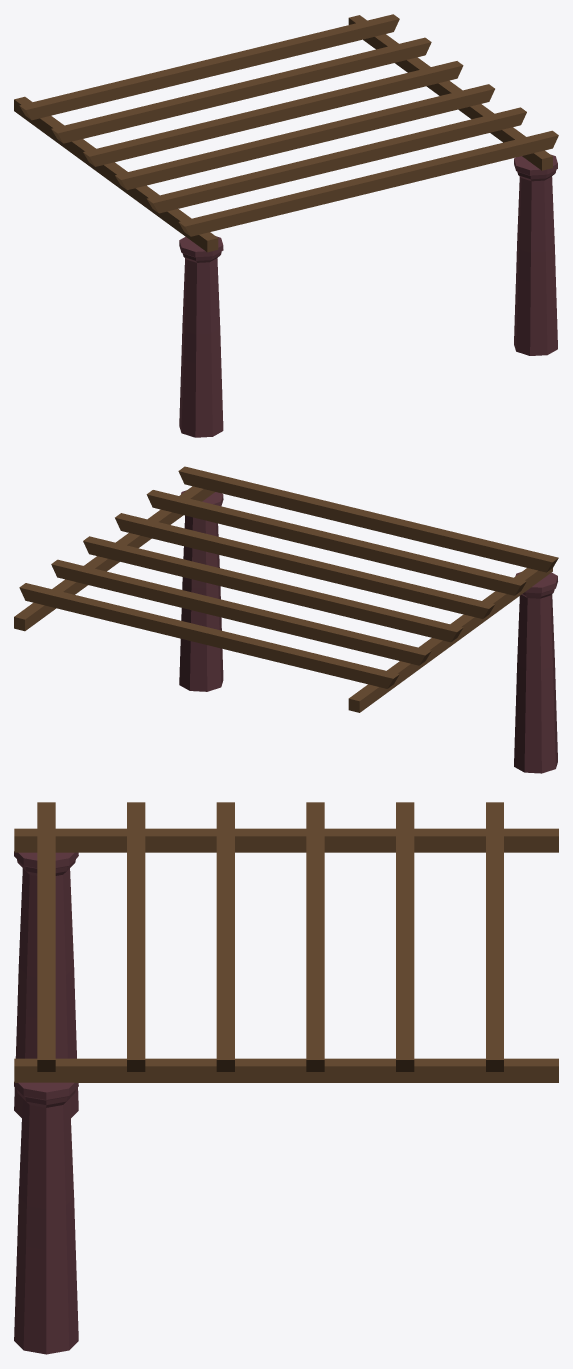
File: empire-colonnade-empire.glb
The picture shows the model from 3 angles, top to bottom: view 1: azimuth 30°, elevation 25°; view 2: azimuth 150°, elevation 25°; view 3: azimuth 270°, elevation 25°; orthographic projection. The views are drawn at different scales.
Parts seen in each view (by area): view 1: SM_Colonnade_Empire; view 2: SM_Colonnade_Empire; view 3: SM_Colonnade_Empire.
Boxes of the visible parts, left/top/right/bottom form: SM_Colonnade_Empire: left=14, top=14, right=558, bottom=437; SM_Colonnade_Empire: left=14, top=466, right=558, bottom=773; SM_Colonnade_Empire: left=14, top=802, right=558, bottom=1354.
Size of the model in its own units: 6.71 by 3.58 by 6.
